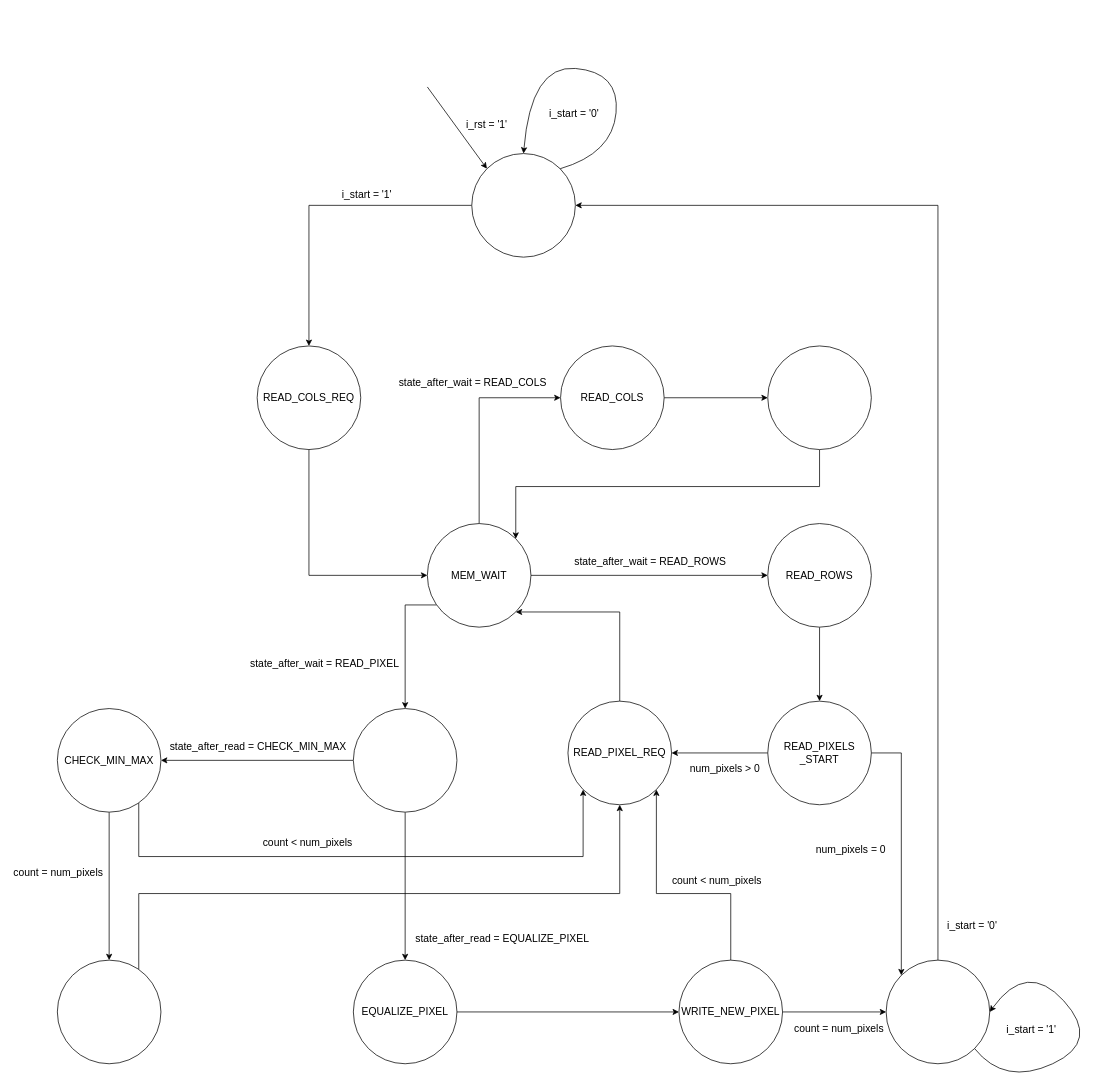
The diagram is 1093 pixels wide and 1085 high, and some of its shapes have lost their labels. The shapes that lost their labels are listed below. From the top down, each one's centre as x and y in pixels, then its label:
At (523,205): "RESET".
At (819,397): "READ_ROWS_REQ".
At (405,760): "READ_PIXEL".
At (109,1011): "WRITE_START".
At (937,1011): "DONE".
